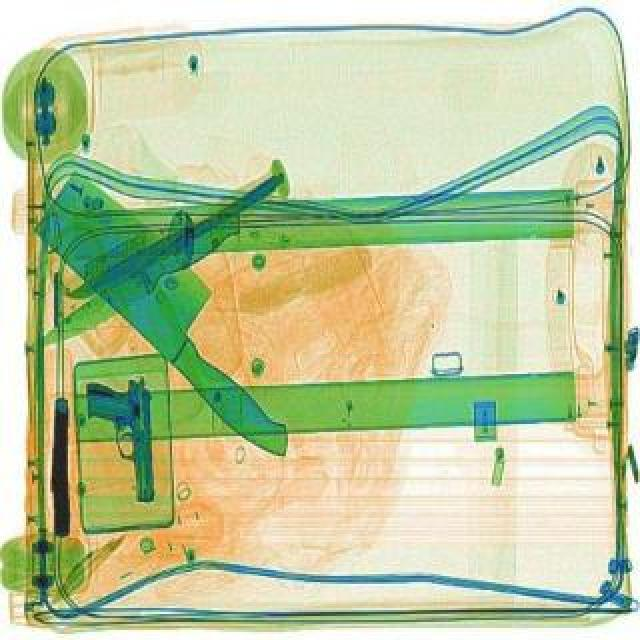gun: (84, 374, 160, 504), (50, 398, 70, 534)
knife: (14, 164, 338, 462), (24, 202, 248, 358), (64, 172, 288, 306)
